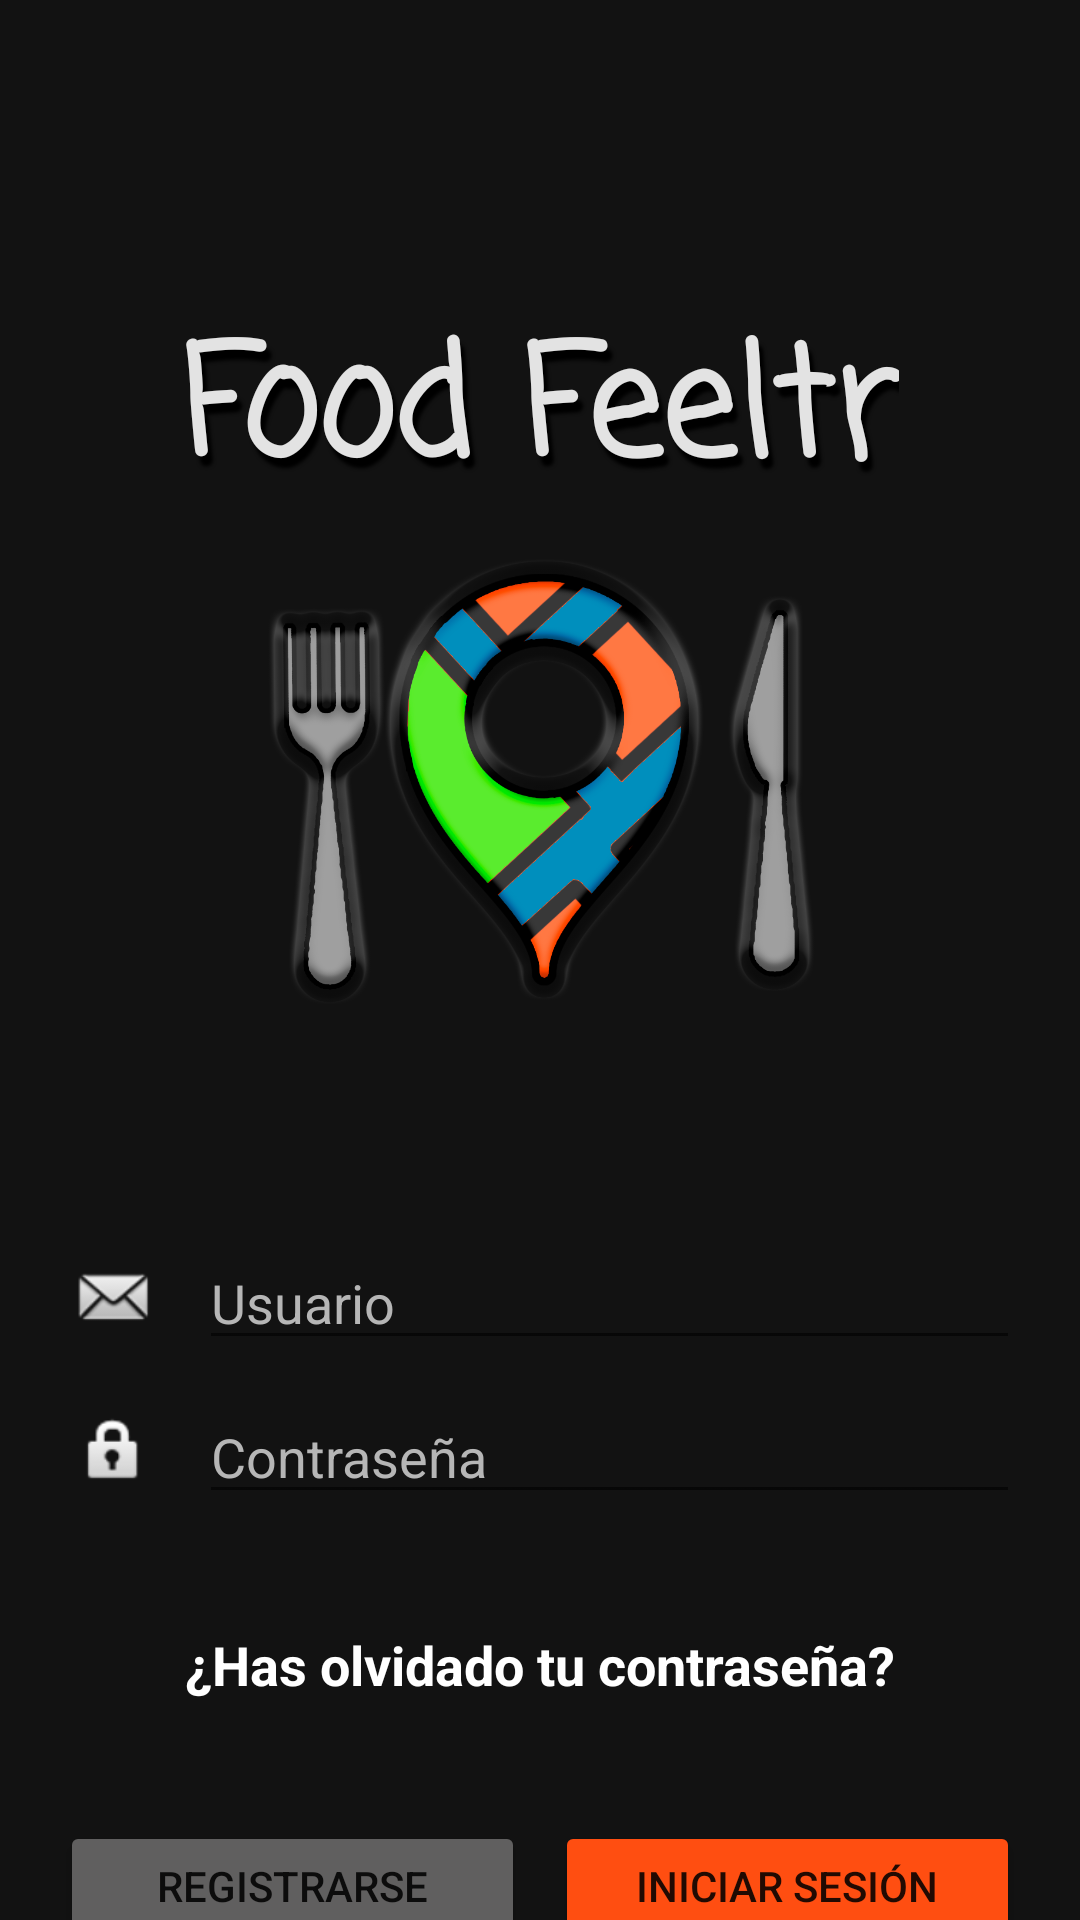

Screen size 1080x1920. Icon name, then its center in pixels as point (x, y):
lock idle: point (112, 1449)
sym action email: point (113, 1297)
